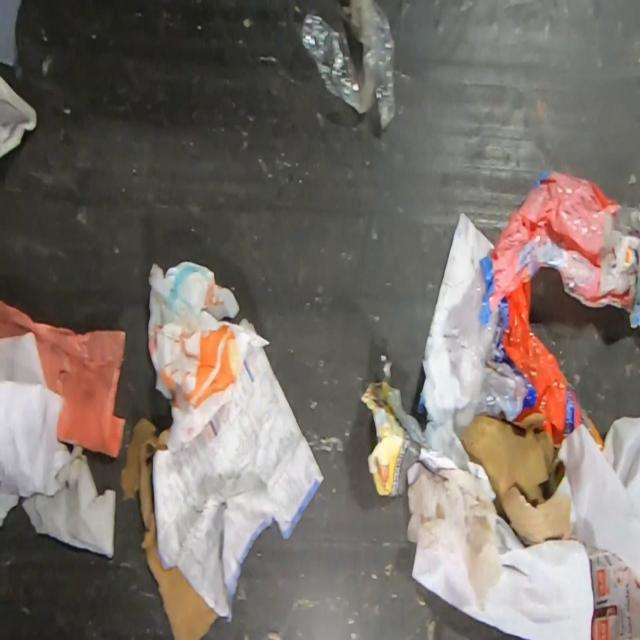cardboard: (118, 417, 220, 640), (458, 412, 570, 547)
soft_plastic: (468, 166, 631, 452), (298, 0, 400, 127)
